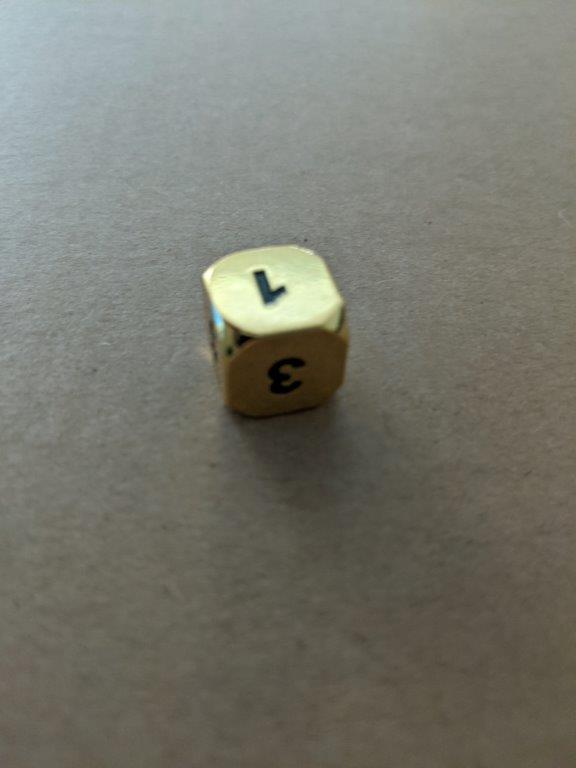d6-1: (199, 242, 352, 414)
